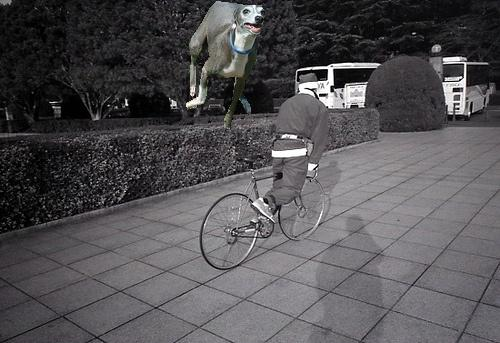tampered: (187, 2, 265, 129)
